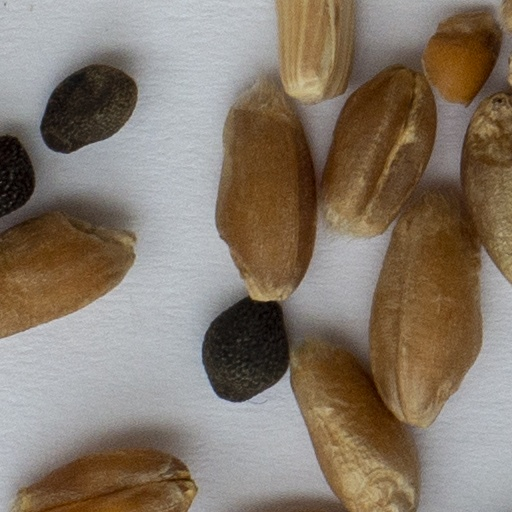Convolvulus-poly: (201, 293, 291, 408), (35, 61, 141, 156), (0, 132, 36, 221)
Peel-poly: (275, 0, 352, 101)
